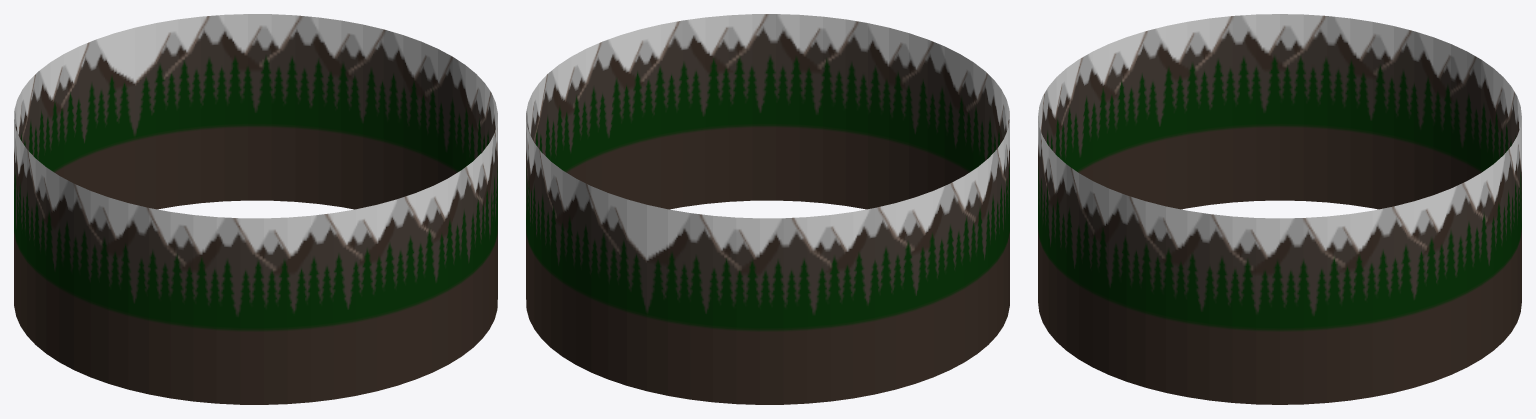
3 renders of one model, left to right at view 1: azimuth 30°, elevation 25°; view 2: azimuth 150°, elevation 25°; view 3: azimuth 270°, elevation 25°, orthographic.
Visible parts, largest first — view 1: BG; view 2: BG; view 3: BG.
Boxes of the visible parts, x1,y1,x2,y2 form: BG: [14, 14, 497, 404]; BG: [526, 14, 1009, 404]; BG: [1038, 14, 1521, 404].
Size of the model in its own units: 13.32 by 5.67 by 13.32.
Materials: 1 (1 with a texture image).
